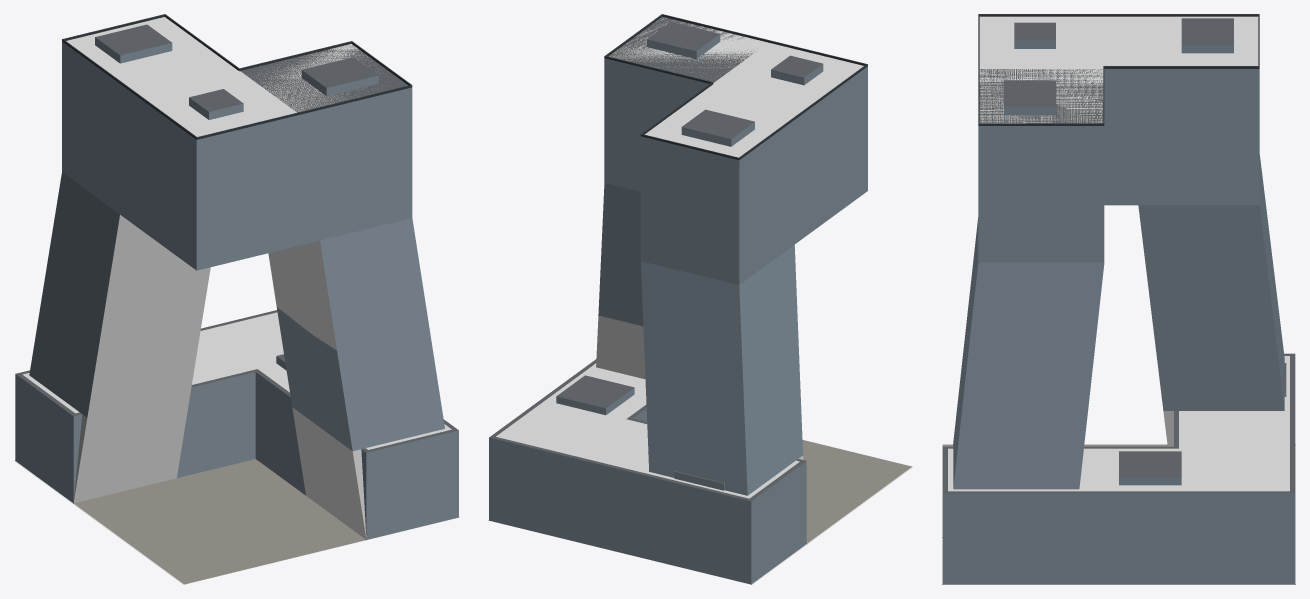
File: cctv.glb
The picture shows the model from 3 angles, left to right: view 1: azimuth 30°, elevation 25°; view 2: azimuth 150°, elevation 25°; view 3: azimuth 270°, elevation 25°; orthographic projection. The views are drawn at different scales.
Parts seen in each view (by area): view 1: Tower, Massing, COL_tower, COL_overW, COL_tower.001, COL_podiumE, COL_overS, COL_podiumN; view 2: Tower, Massing, COL_overW, COL_podiumE, COL_podiumN, COL_tower.001, COL_overS; view 3: Massing, Tower, COL_overW, COL_podiumE, COL_podiumN, COL_overS, CLEAR_cctv.
Boxes of the visible parts, left/top/right/bottom form: Tower: left=15, top=14, right=458, bottom=584; Massing: left=15, top=41, right=458, bottom=539; COL_tower: left=73, top=215, right=210, bottom=503; COL_overW: left=66, top=17, right=296, bottom=136; COL_tower.001: left=268, top=240, right=366, bottom=539; COL_podiumE: left=205, top=312, right=451, bottom=449; COL_overS: left=251, top=44, right=406, bottom=112; COL_podiumN: left=22, top=330, right=256, bottom=413; Tower: left=488, top=14, right=911, bottom=584; Massing: left=489, top=16, right=867, bottom=584; COL_overW: left=645, top=43, right=863, bottom=157; COL_podiumE: left=496, top=363, right=646, bottom=455; COL_podiumN: left=576, top=419, right=799, bottom=498; COL_tower.001: left=596, top=315, right=645, bottom=378; COL_overS: left=609, top=18, right=768, bottom=75; Massing: left=942, top=69, right=1295, bottom=584; Tower: left=942, top=14, right=1295, bottom=584; COL_overW: left=979, top=16, right=1258, bottom=68; COL_podiumE: left=948, top=448, right=1289, bottom=491; COL_podiumN: left=1179, top=356, right=1289, bottom=448; COL_overS: left=979, top=69, right=1103, bottom=123; CLEAR_cctv: left=942, top=444, right=1295, bottom=584.
Bounding box in the file's own units: 159 × 239 × 169.
